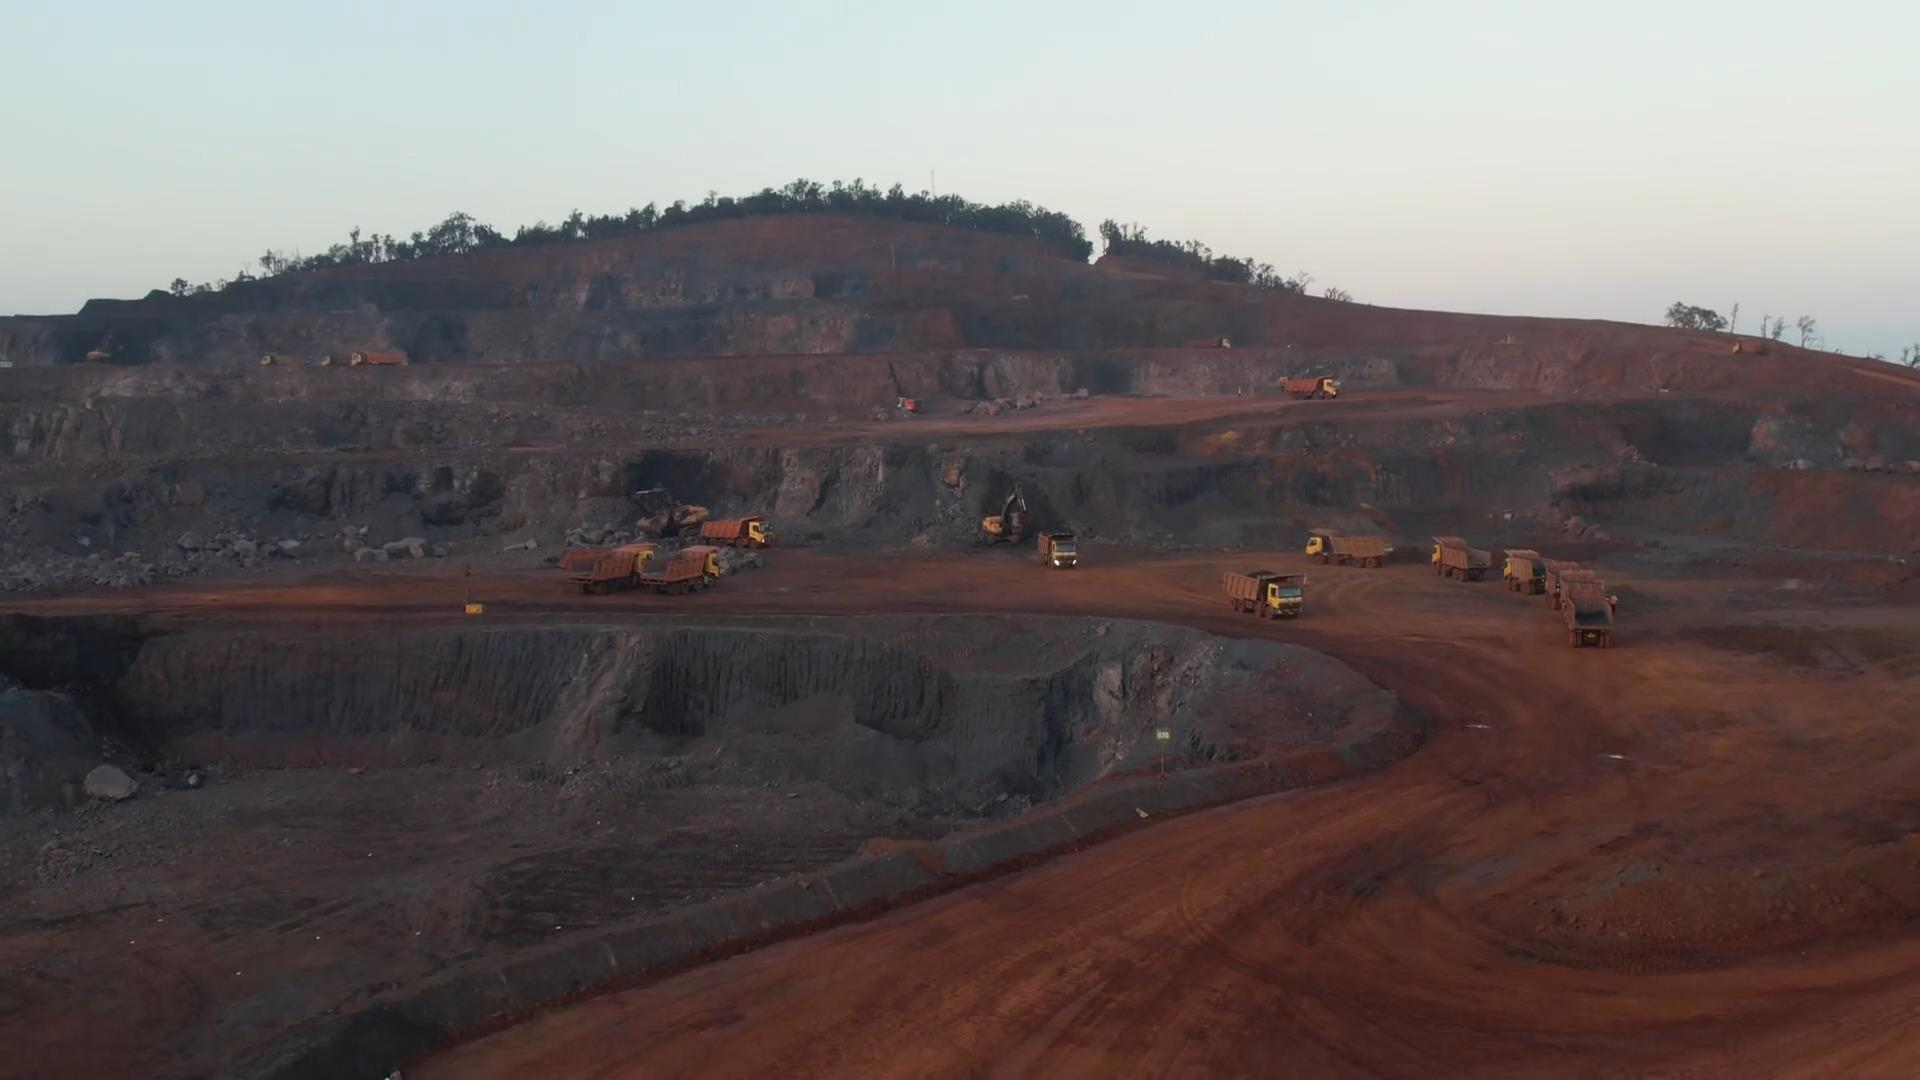excavator: (630, 485, 703, 534), (978, 485, 1031, 545)
